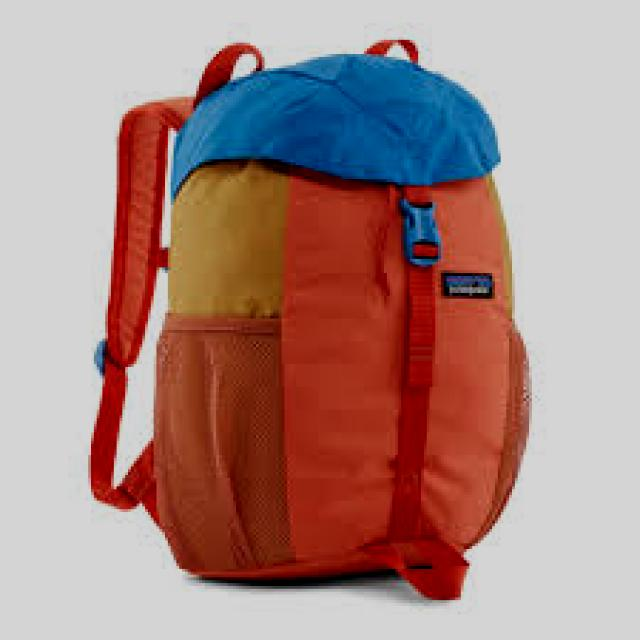backpack: (89, 38, 533, 601)
